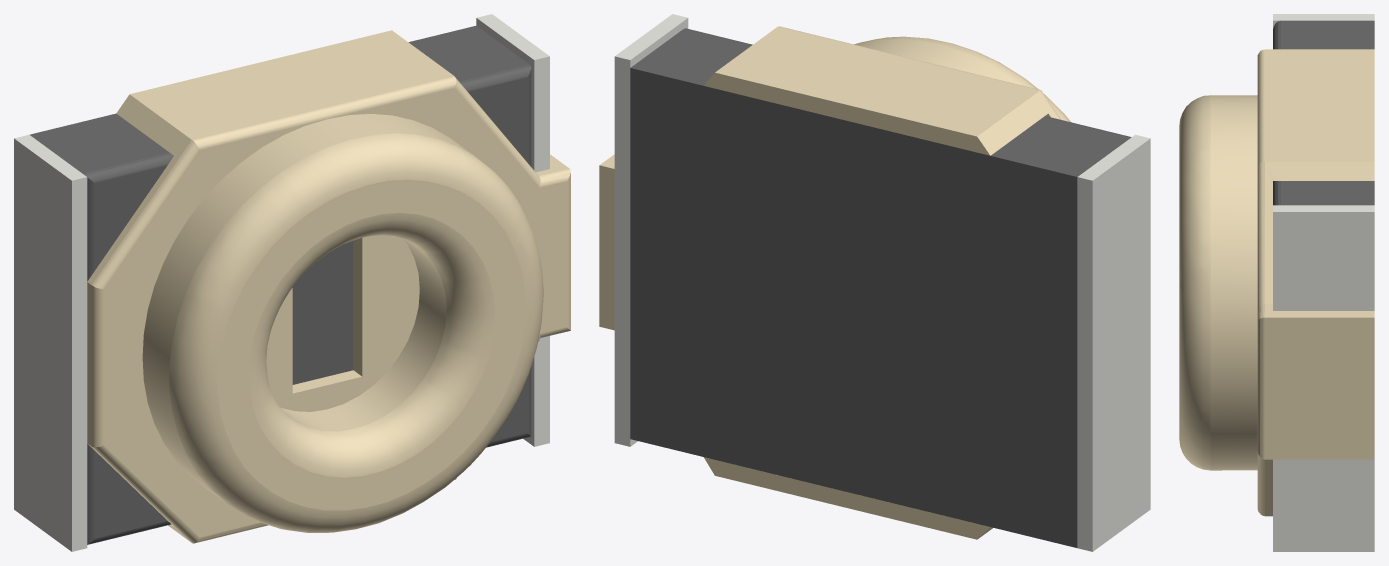
Rendered from C_Trimmer_Murata_TZY2.glb.
3 views of the same model, side by side, from view 1: azimuth 30°, elevation 25°; view 2: azimuth 150°, elevation 25°; view 3: azimuth 270°, elevation 25° (orthographic). The views are drawn at different scales.
Parts seen in each view (by area): view 1: Shape_IndexedFaceSet.053, Shape_IndexedFaceSet.060, Shape_IndexedFaceSet.061, Shape_IndexedFaceSet.055, Shape_IndexedFaceSet.013, Shape_IndexedFaceSet, Shape_IndexedFaceSet.032, Shape_IndexedFaceSet.063, Shape_IndexedFaceSet.012, Shape_IndexedFaceSet.068, Shape_IndexedFaceSet.062, Shape_IndexedFaceSet.059 (+24 smaller); view 2: Shape_IndexedFaceSet.015, Shape_IndexedFaceSet.055, Shape_IndexedFaceSet, Shape_IndexedFaceSet.040, Shape_IndexedFaceSet.037, Shape_IndexedFaceSet.017, Shape_IndexedFaceSet.003, Shape_IndexedFaceSet.038, Shape_IndexedFaceSet.011, Shape_IndexedFaceSet.025, Shape_IndexedFaceSet.032, Shape_IndexedFaceSet.004 (+3 smaller); view 3: Shape_IndexedFaceSet.032, Shape_IndexedFaceSet.023, Shape_IndexedFaceSet, Shape_IndexedFaceSet.053, Shape_IndexedFaceSet.026, Shape_IndexedFaceSet.056, Shape_IndexedFaceSet.001, Shape_IndexedFaceSet.017, Shape_IndexedFaceSet.011, Shape_IndexedFaceSet.008, Shape_IndexedFaceSet.033, Shape_IndexedFaceSet.002 (+6 smaller).
Boxes of the visible parts, x1=… form: Shape_IndexedFaceSet.053: x1=169, y1=133, x2=543, y2=532; Shape_IndexedFaceSet.060: x1=218, y1=179, x2=526, y2=510; Shape_IndexedFaceSet.061: x1=248, y1=212, x2=495, y2=477; Shape_IndexedFaceSet.055: x1=14, y1=138, x2=71, y2=551; Shape_IndexedFaceSet.013: x1=104, y1=119, x2=325, y2=536; Shape_IndexedFaceSet: x1=130, y1=30, x2=453, y2=139; Shape_IndexedFaceSet.032: x1=142, y1=113, x2=472, y2=500; Shape_IndexedFaceSet.063: x1=266, y1=235, x2=419, y2=411; Shape_IndexedFaceSet.012: x1=332, y1=88, x2=566, y2=333; Shape_IndexedFaceSet.068: x1=292, y1=240, x2=353, y2=384; Shape_IndexedFaceSet.062: x1=280, y1=239, x2=446, y2=431; Shape_IndexedFaceSet.059: x1=72, y1=177, x2=87, y2=551; Shape_IndexedFaceSet.015: x1=630, y1=68, x2=1077, y2=547; Shape_IndexedFaceSet.055: x1=1092, y1=138, x2=1150, y2=551; Shape_IndexedFaceSet: x1=715, y1=27, x2=1038, y2=136; Shape_IndexedFaceSet.040: x1=614, y1=56, x2=630, y2=446; Shape_IndexedFaceSet.037: x1=1077, y1=177, x2=1092, y2=551; Shape_IndexedFaceSet.017: x1=991, y1=117, x2=1130, y2=176; Shape_IndexedFaceSet.003: x1=704, y1=72, x2=990, y2=155; Shape_IndexedFaceSet.038: x1=703, y1=457, x2=989, y2=539; Shape_IndexedFaceSet.011: x1=631, y1=29, x2=751, y2=85; Shape_IndexedFaceSet.025: x1=599, y1=165, x2=614, y2=330; Shape_IndexedFaceSet.032: x1=856, y1=39, x2=1021, y2=85; Shape_IndexedFaceSet.004: x1=977, y1=91, x2=1058, y2=155; Shape_IndexedFaceSet.032: x1=1210, y1=95, x2=1257, y2=470; Shape_IndexedFaceSet.023: x1=1265, y1=317, x2=1374, y2=459; Shape_IndexedFaceSet: x1=1265, y1=49, x2=1374, y2=161; Shape_IndexedFaceSet.053: x1=1179, y1=95, x2=1210, y2=470; Shape_IndexedFaceSet.026: x1=1273, y1=212, x2=1374, y2=310; Shape_IndexedFaceSet.056: x1=1273, y1=459, x2=1374, y2=551; Shape_IndexedFaceSet.001: x1=1265, y1=162, x2=1374, y2=304; Shape_IndexedFaceSet.017: x1=1281, y1=20, x2=1374, y2=49; Shape_IndexedFaceSet.011: x1=1281, y1=181, x2=1374, y2=205; Shape_IndexedFaceSet.008: x1=1257, y1=162, x2=1264, y2=308; Shape_IndexedFaceSet.033: x1=1257, y1=317, x2=1264, y2=459; Shape_IndexedFaceSet.002: x1=1257, y1=49, x2=1264, y2=164.
Size of the model in its own units: 1.26 by 0.984 by 0.492.
